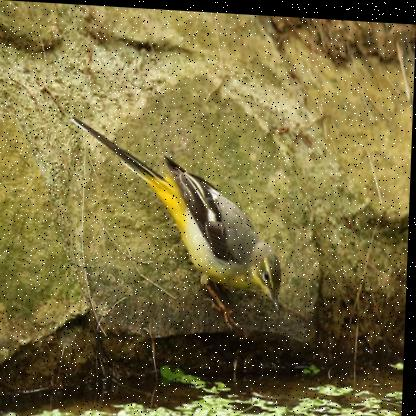Burung: (63, 113, 290, 324)
